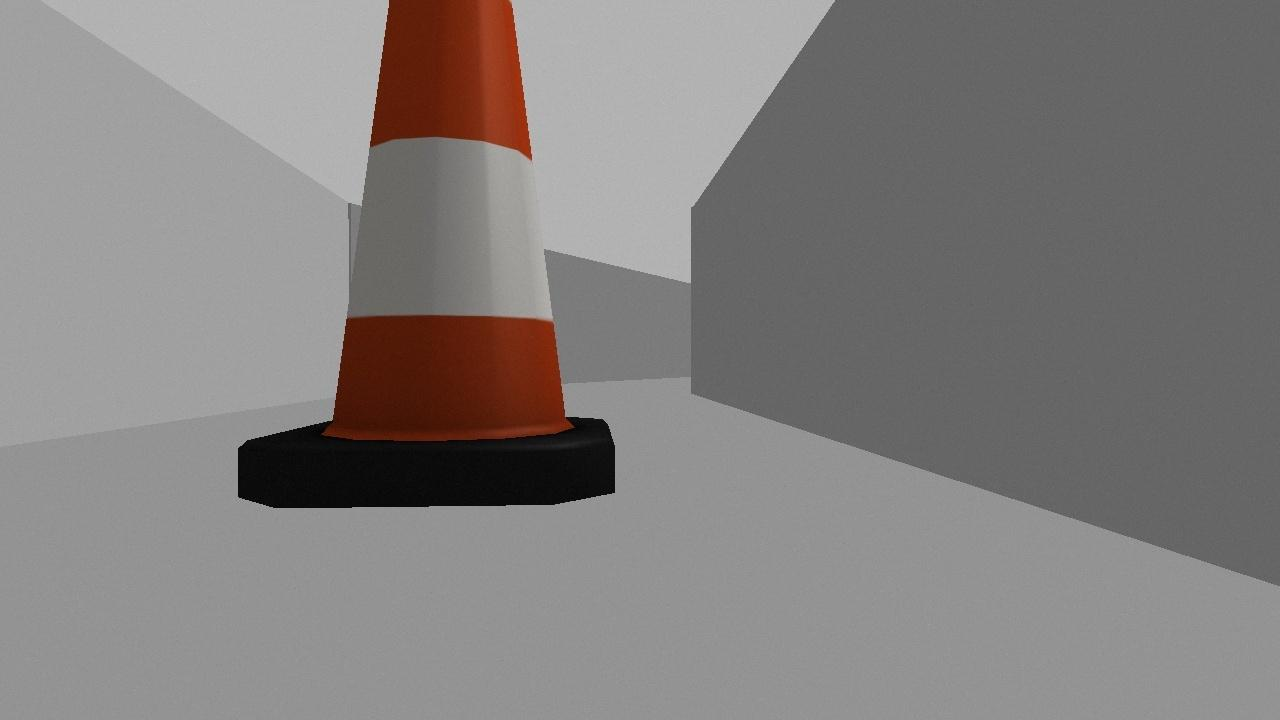cone_barrel: (235, 0, 617, 505)
